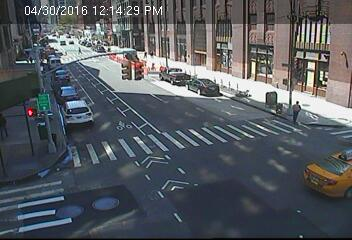neg: (219, 49, 234, 69), (178, 46, 190, 61), (260, 49, 267, 57)
pos: (287, 98, 306, 124), (74, 43, 84, 56), (149, 49, 156, 58), (142, 49, 148, 58)
